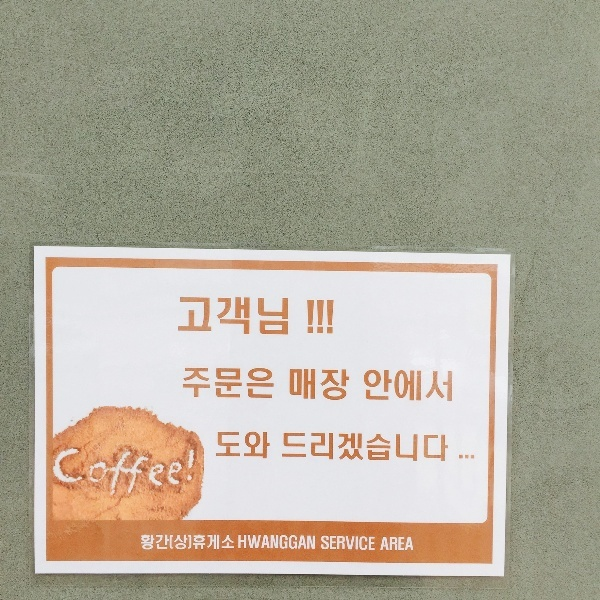text: (65, 445, 80, 501), (81, 445, 96, 501), (97, 445, 112, 501), (113, 445, 128, 501), (129, 445, 144, 501), (145, 445, 160, 501), (161, 445, 176, 501), (177, 445, 192, 501), (193, 296, 208, 338), (209, 296, 224, 338), (225, 296, 240, 338), (241, 296, 256, 338), (257, 296, 272, 338), (273, 296, 288, 338), (53, 445, 64, 501), (178, 296, 192, 338), (193, 368, 208, 402), (209, 368, 224, 402), (225, 368, 240, 402), (241, 368, 256, 402), (257, 368, 272, 402), (305, 369, 320, 403), (321, 369, 336, 403), (321, 300, 335, 336), (369, 372, 384, 404), (385, 372, 400, 404), (401, 372, 416, 404), (417, 372, 432, 404), (433, 372, 448, 404), (290, 369, 304, 403), (337, 369, 351, 403), (307, 300, 320, 336), (289, 433, 304, 463), (305, 433, 320, 463), (225, 433, 240, 462), (241, 433, 256, 462), (353, 435, 368, 464), (369, 435, 384, 464), (385, 435, 400, 464), (401, 435, 416, 464), (417, 435, 432, 464), (433, 435, 448, 464), (257, 433, 271, 462), (338, 435, 352, 464), (321, 433, 334, 463), (401, 534, 417, 554), (337, 534, 352, 555), (353, 534, 368, 555), (183, 368, 192, 402), (385, 534, 400, 554), (322, 534, 336, 555), (145, 534, 160, 553), (161, 534, 176, 553), (177, 534, 192, 553), (193, 534, 208, 553), (209, 534, 224, 553), (241, 534, 256, 553), (257, 534, 272, 553), (273, 534, 288, 553), (289, 534, 304, 553), (305, 534, 318, 553), (216, 433, 224, 462), (225, 534, 236, 553), (282, 433, 288, 463), (193, 445, 196, 501), (369, 534, 377, 555), (364, 372, 368, 404), (449, 372, 453, 404), (273, 368, 276, 402), (380, 534, 384, 554), (140, 534, 144, 553), (237, 534, 240, 553), (289, 296, 290, 338), (449, 435, 450, 464)
